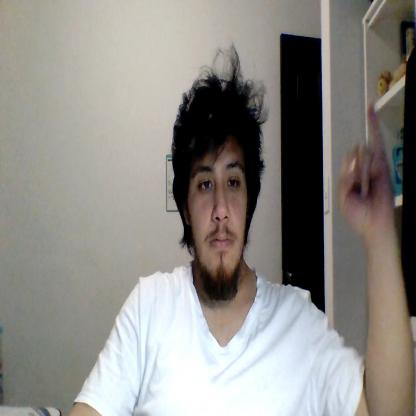I: (339, 102, 395, 228)
